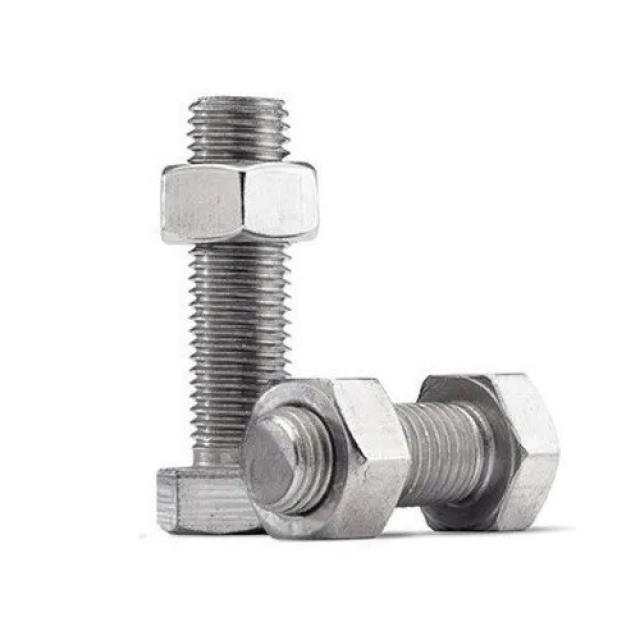Logam: (113, 63, 577, 584)
